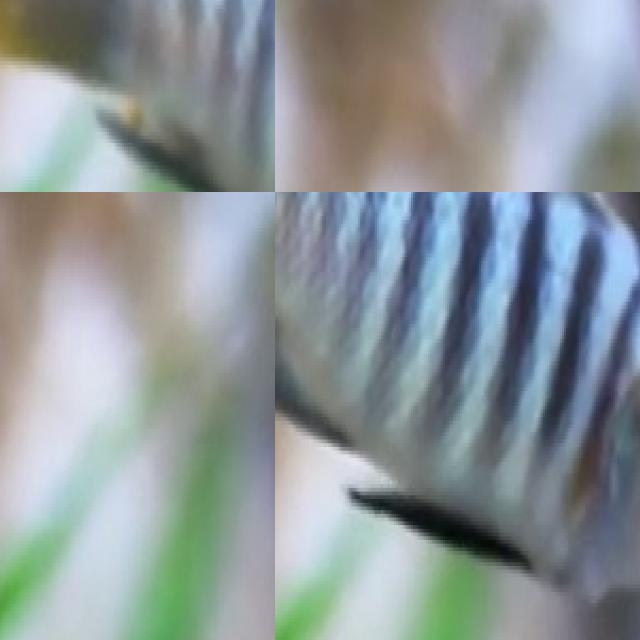fish: (275, 192, 640, 625), (0, 0, 275, 192)
